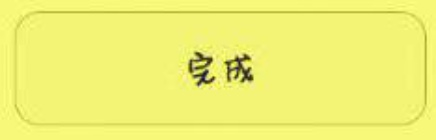Button: (1, 1, 435, 139)
